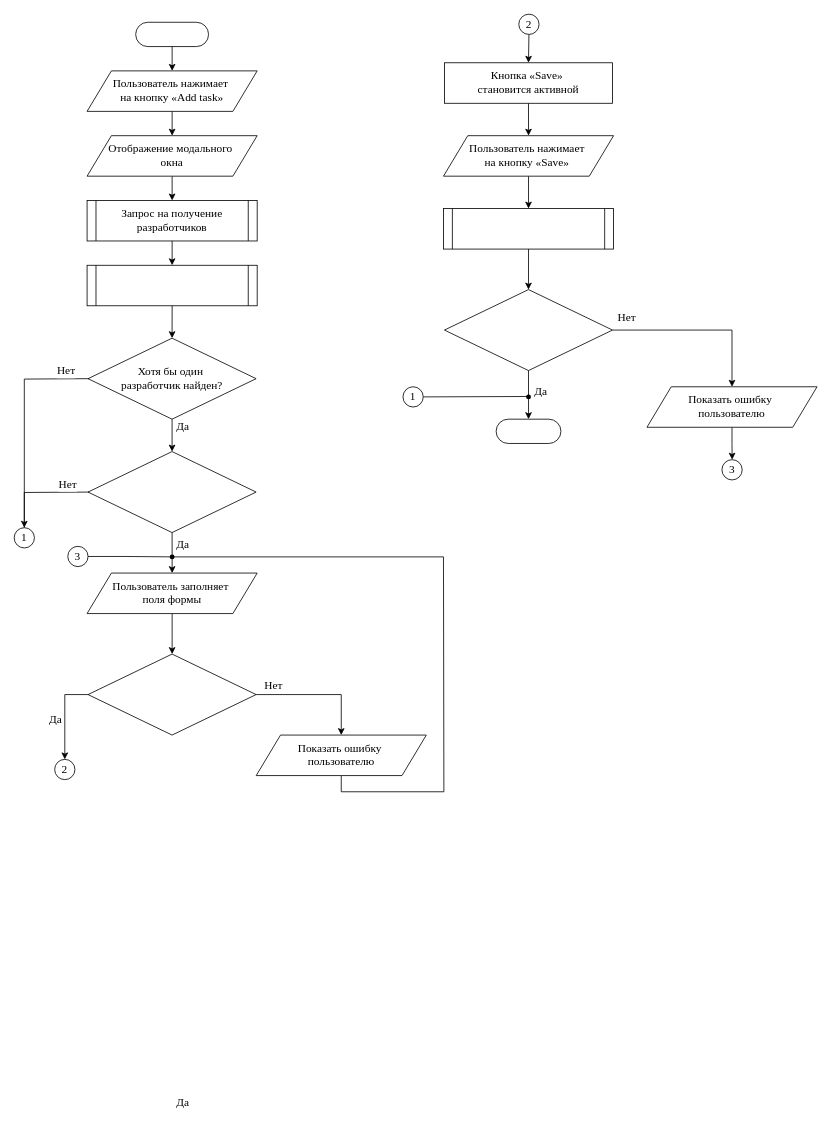
The diagram is 832 pixels wide and 1124 high, and some of its shapes have lost their labels. Here are the shapes that lost their labels. From the top down, the centre of each, then its label:
the point at 172,34: Начало
the point at 528,228: Запрос на сохранение задачи
the point at 171,285: Запрос на получение клиентов
the point at 528,330: Задача создана успешно?
the point at 528,430: Конец
the point at 171,492: Хотя бы один клиент найден?
the point at 171,694: Введенные данные верны?
